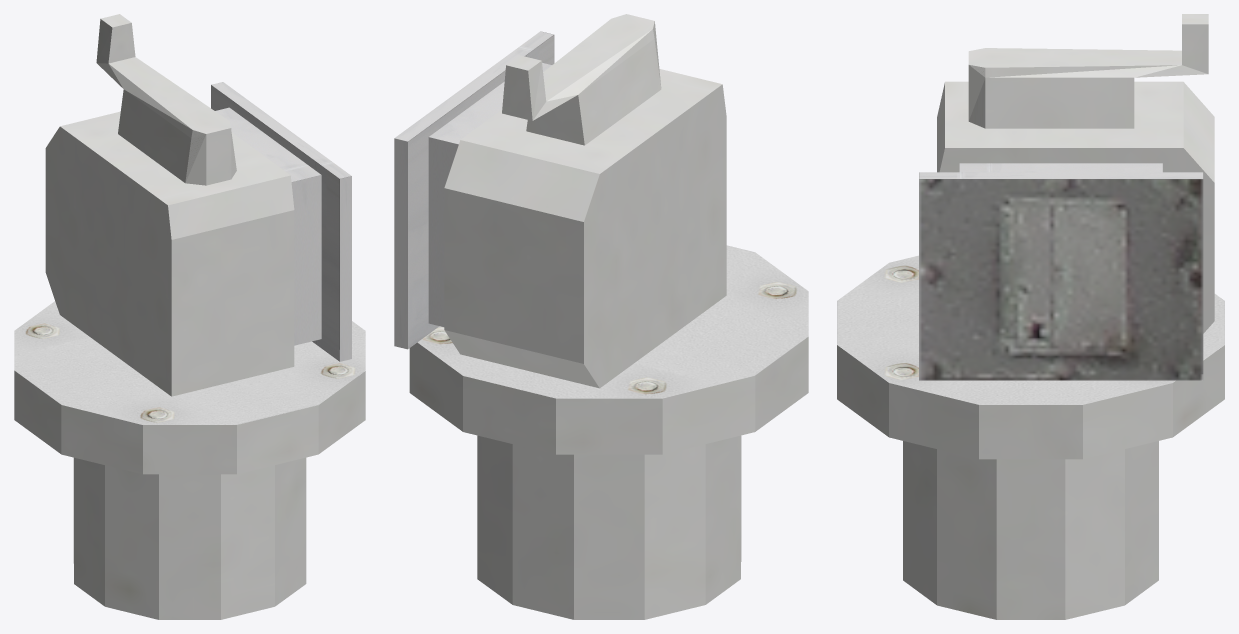
The model's file is wzkg005-geode.glb.
3 renders of one model, left to right at view 1: azimuth 30°, elevation 25°; view 2: azimuth 150°, elevation 25°; view 3: azimuth 270°, elevation 25°, orthographic. The views are drawn at different scales.
Visible parts, largest first — view 1: Node; view 2: Node; view 3: Node.
Boxes of the visible parts, x1,y1,x2,y2 form: Node: [14, 14, 365, 619]; Node: [394, 14, 808, 619]; Node: [837, 14, 1224, 619].
Size of the model in its own units: 0.2358 by 0.367 by 0.2358.
Materials: 2 (2 with a texture image).
